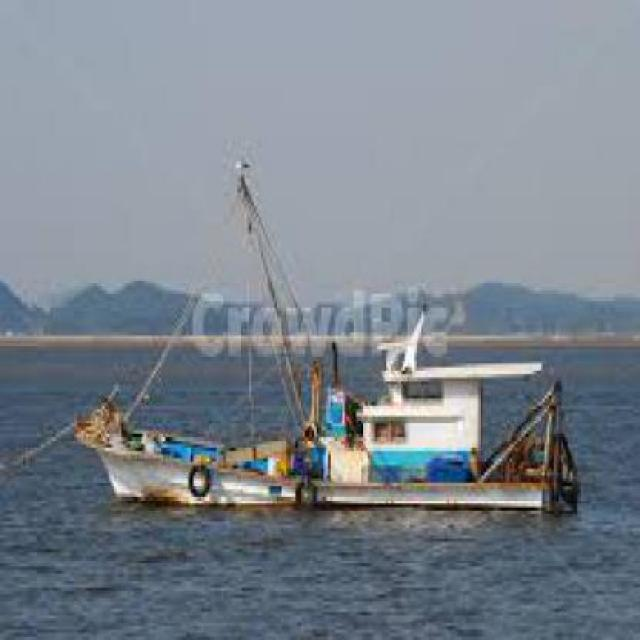fish-b: (64, 128, 607, 537)
